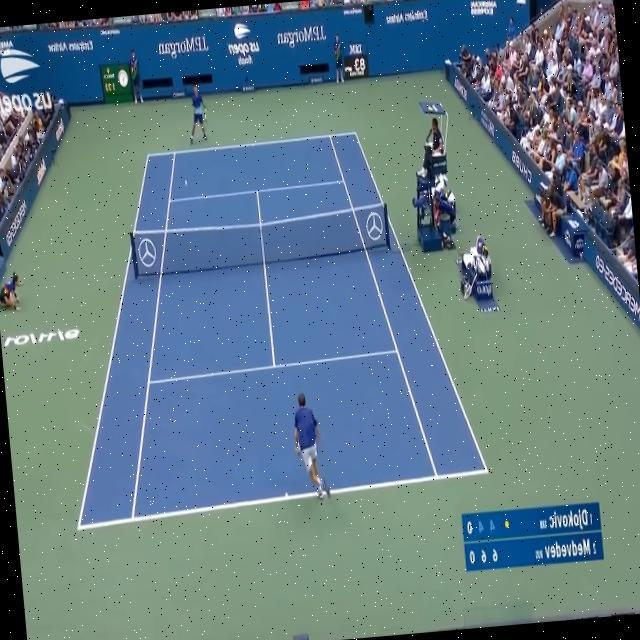Emirates: (68, 39, 93, 54), (404, 9, 429, 23)
